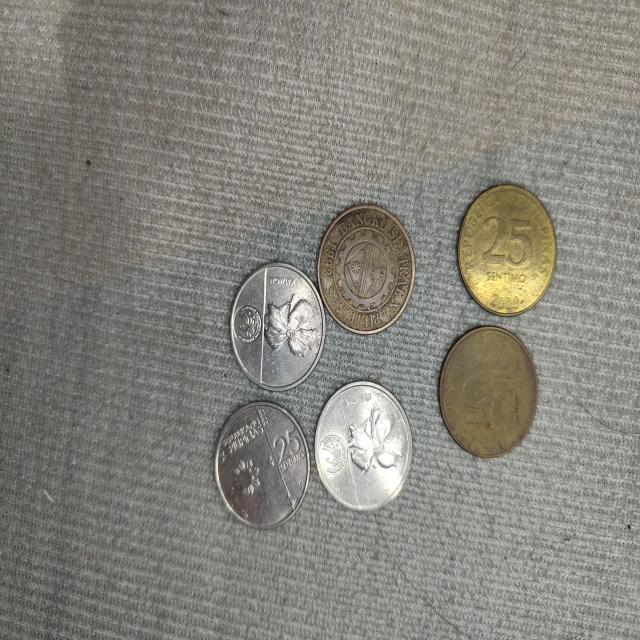25 cents: (227, 255, 326, 397), (314, 382, 414, 509), (214, 401, 312, 527)
25 cents-old: (457, 184, 559, 316), (317, 203, 418, 335), (439, 326, 540, 458)
